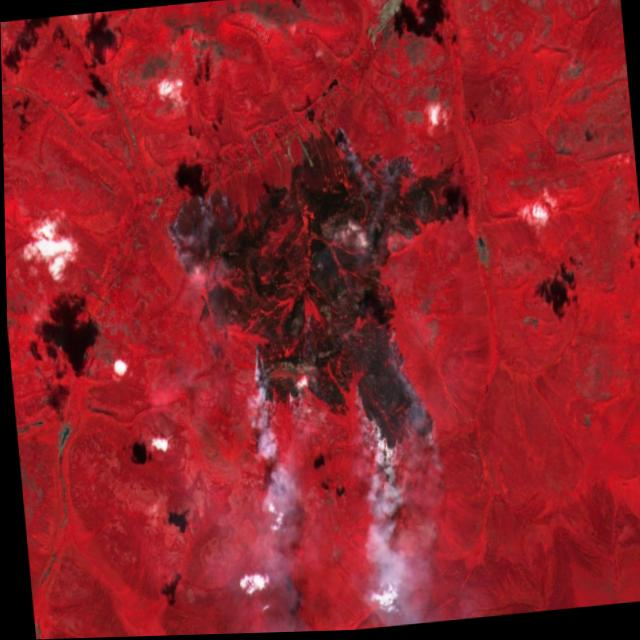fire: (155, 111, 485, 481)
